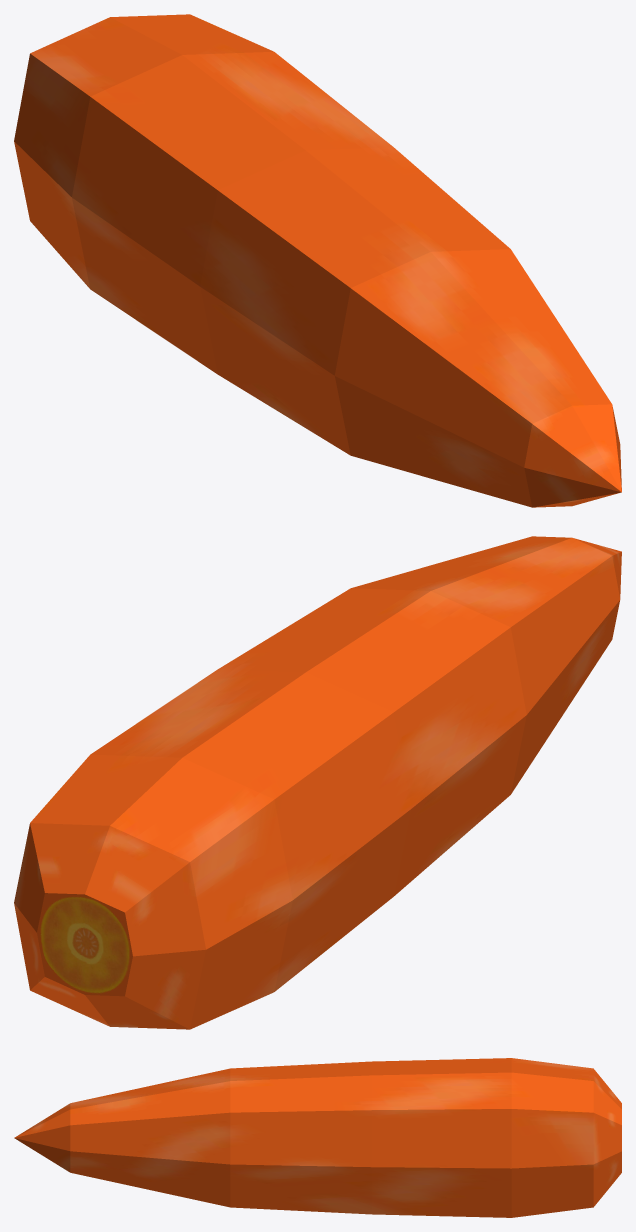
The model's file is ninjin.obj.
3 views of the same model, one above another, from view 1: azimuth 30°, elevation 25°; view 2: azimuth 150°, elevation 25°; view 3: azimuth 270°, elevation 25° (orthographic). The views are drawn at different scales.
Visible parts, largest first — view 1: Cube; view 2: Cube; view 3: Cube.
Boxes of the visible parts, left/top/right/bottom form: Cube: left=14, top=14, right=621, bottom=507; Cube: left=14, top=536, right=621, bottom=1029; Cube: left=14, top=1058, right=621, bottom=1217.
Size of the model in its own units: 2.76 by 2.76 by 11.62.
1 material, 1 textured.
